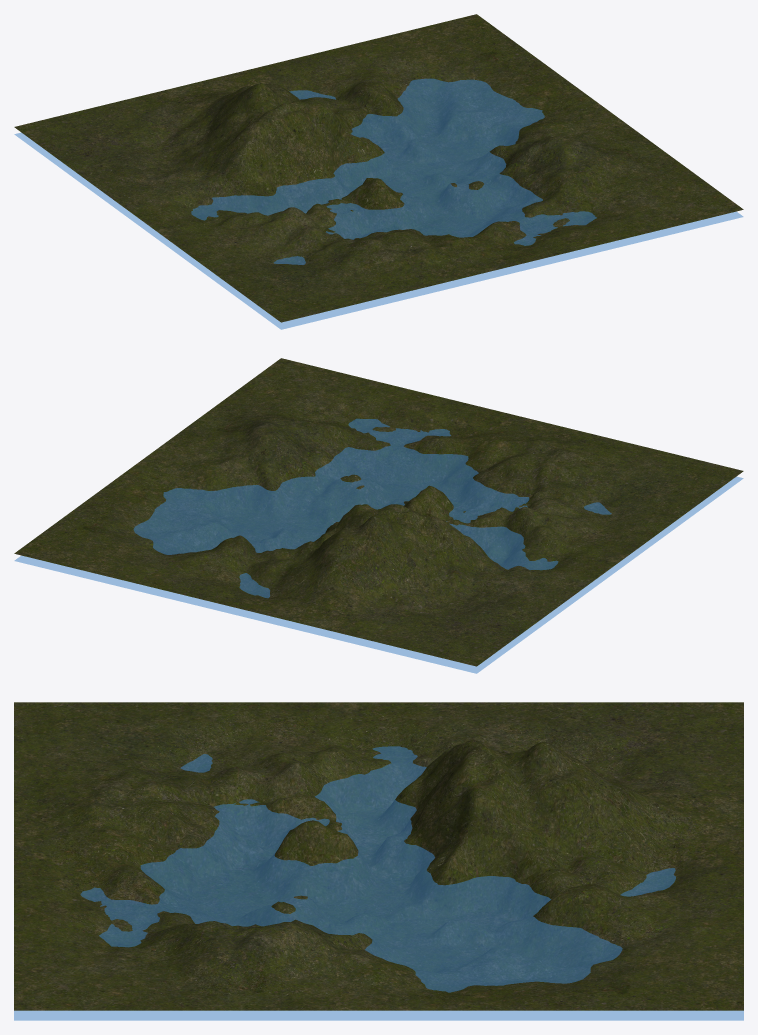
The model's file is rocklandscape.glb.
3 views of the same model, one above another, from view 1: azimuth 30°, elevation 25°; view 2: azimuth 150°, elevation 25°; view 3: azimuth 270°, elevation 25° (orthographic). The views are drawn at different scales.
Parts seen in each view (by area): view 1: Landscape.001, Landscape_plane; view 2: Landscape.001, Landscape_plane; view 3: Landscape.001, Landscape_plane.
Part boxes in pixels (bbox=[...]): Landscape.001: bbox=[14, 14, 743, 322]; Landscape_plane: bbox=[14, 78, 743, 329]; Landscape.001: bbox=[14, 358, 743, 666]; Landscape_plane: bbox=[14, 418, 743, 673]; Landscape.001: bbox=[14, 702, 743, 1010]; Landscape_plane: bbox=[14, 746, 743, 1020].
Size of the model in its own units: 2 by 0.3276 by 2.
2 materials, 1 textured.
